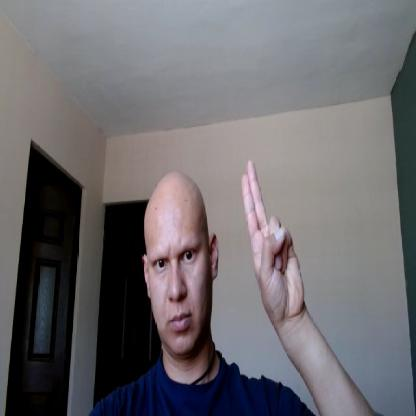U: (241, 157, 302, 318)
